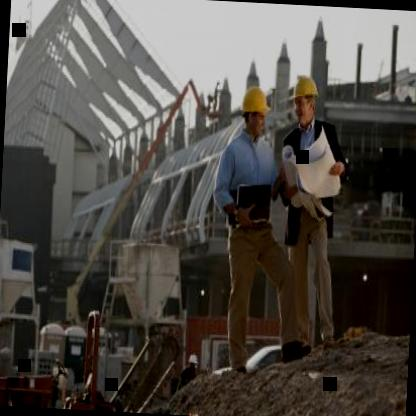helmet: (236, 78, 272, 142), (287, 68, 322, 129)
